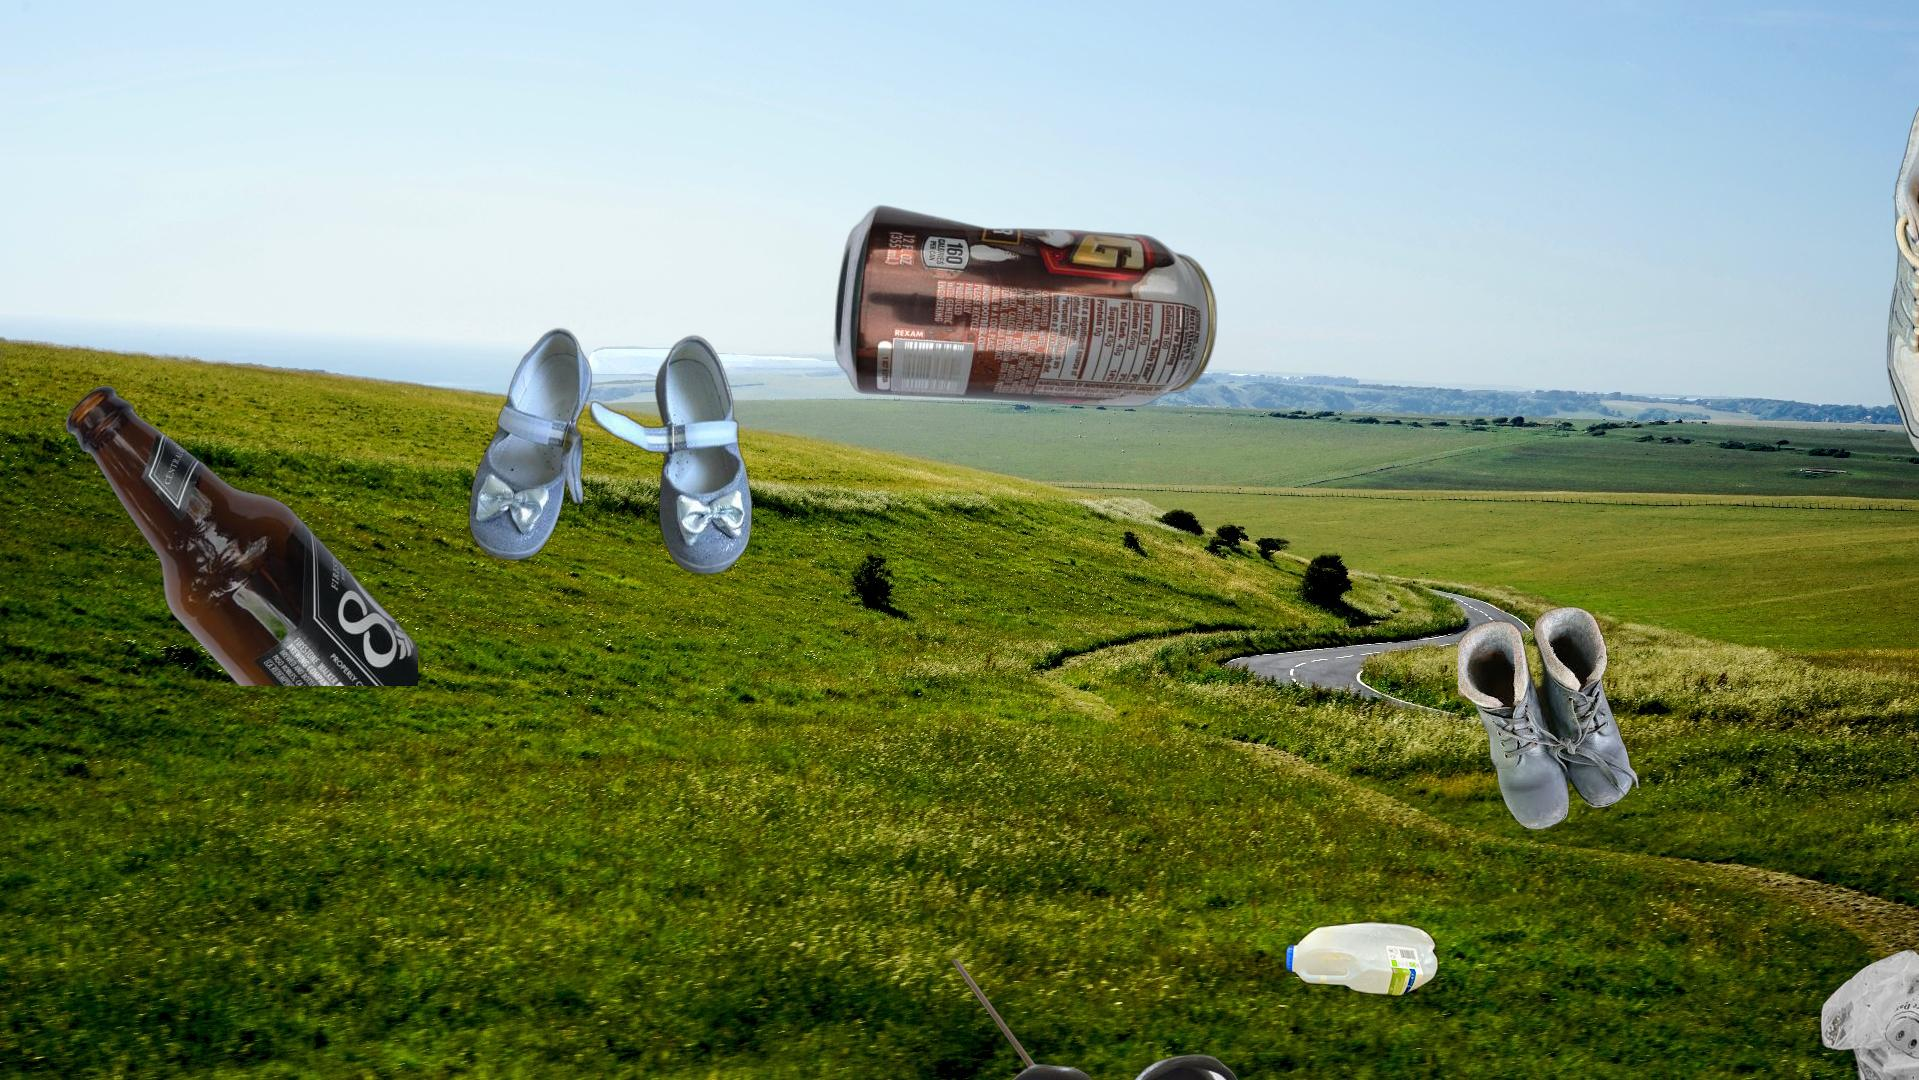glass: (61, 382, 418, 686)
metal-cans: (826, 202, 1222, 409)
plastic-bag: (1818, 855, 1919, 1080)
plastic-bottles: (1281, 916, 1443, 1004)
shoes: (465, 324, 757, 579), (946, 959, 1317, 1080), (1458, 604, 1642, 833), (1883, 65, 1919, 472)
